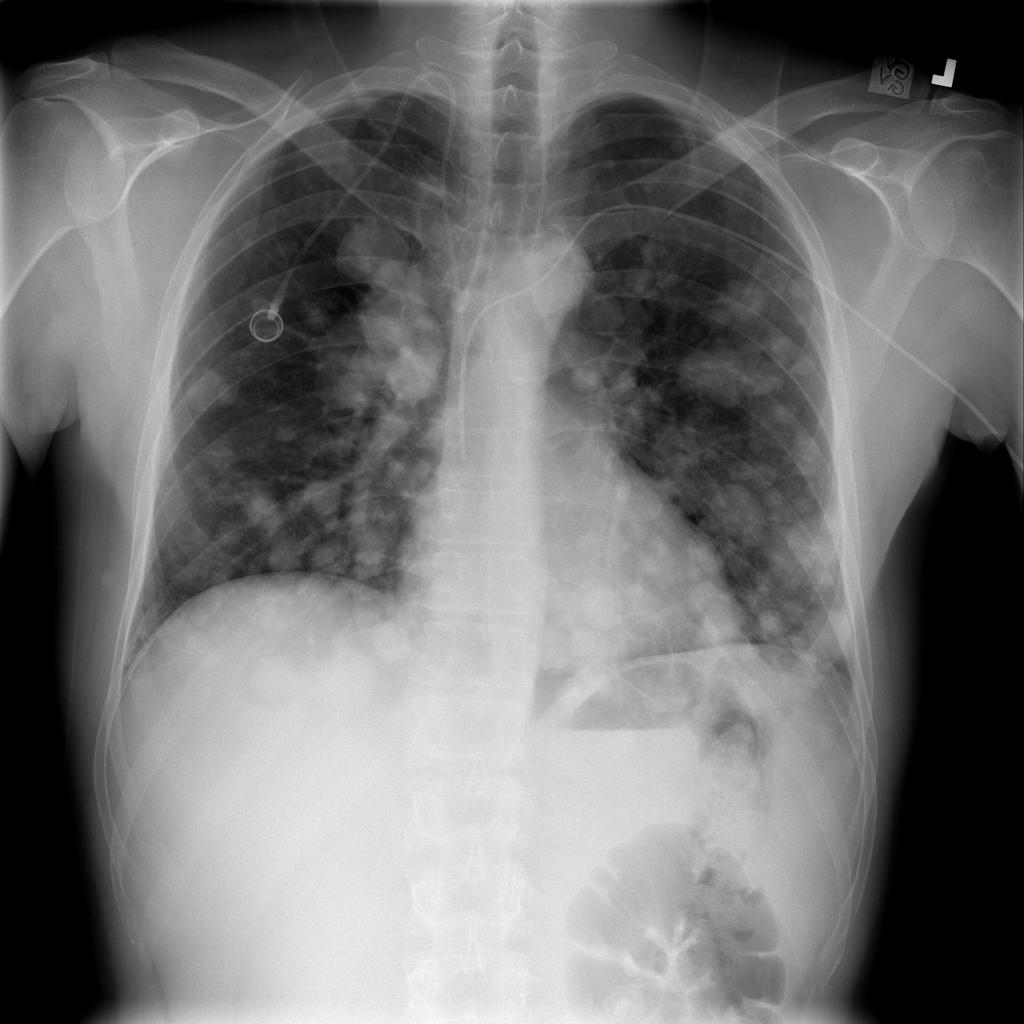nodule: (317, 281, 447, 421), (336, 200, 417, 285), (670, 337, 760, 412), (645, 405, 728, 481), (771, 514, 848, 593), (705, 477, 782, 553), (170, 350, 249, 422), (565, 565, 639, 640), (679, 567, 752, 642), (312, 641, 385, 716), (553, 600, 629, 670), (243, 644, 314, 717), (795, 595, 865, 668), (708, 265, 785, 331), (570, 279, 645, 344), (623, 235, 694, 301), (357, 603, 423, 673), (281, 275, 349, 342), (248, 530, 304, 580), (294, 473, 348, 523), (782, 440, 836, 489), (189, 434, 242, 483), (234, 480, 285, 529), (561, 351, 614, 398), (776, 269, 826, 316), (262, 405, 309, 454), (310, 539, 355, 585), (790, 348, 822, 388), (772, 402, 802, 429)
